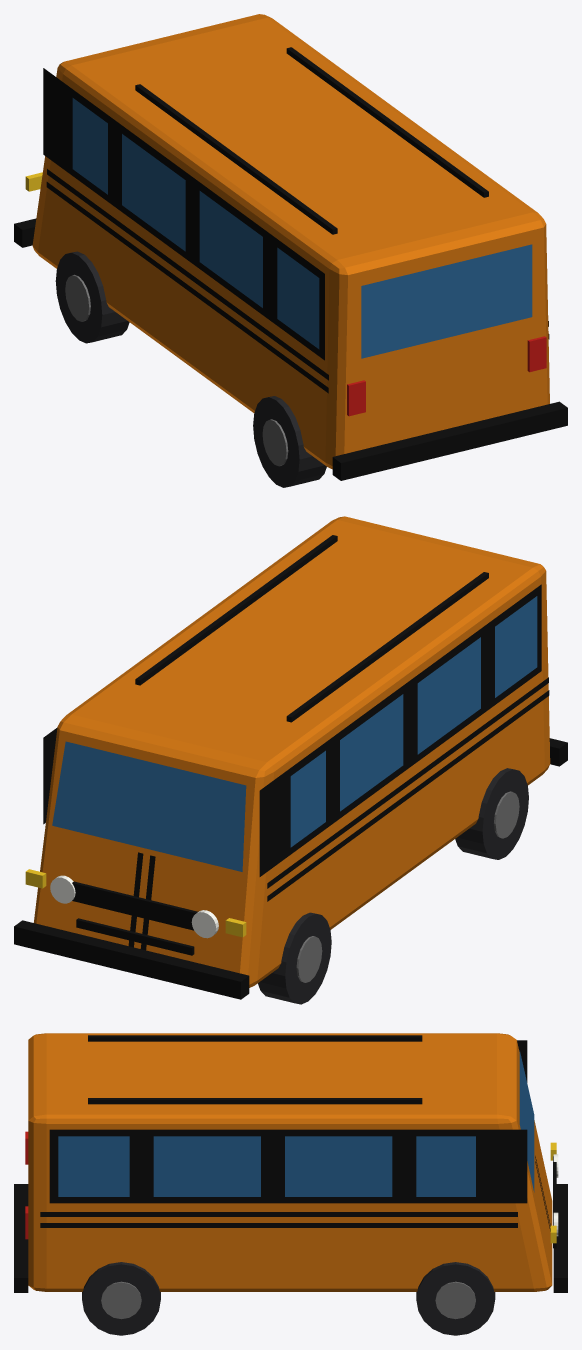
The model's file is Danfo.obj.
The picture shows the model from 3 angles, top to bottom: view 1: azimuth 30°, elevation 25°; view 2: azimuth 150°, elevation 25°; view 3: azimuth 270°, elevation 25°; orthographic projection. The views are drawn at different scales.
Parts seen in each view (by area): view 1: Body; view 2: Body; view 3: Body.
Boxes of the visible parts, x1,y1,x2,y2 form: Body: (14, 14, 567, 487); Body: (14, 516, 567, 1004); Body: (14, 1033, 567, 1335).
Bounding box in the file's own units: 1.91 × 2.04 × 4.64.
